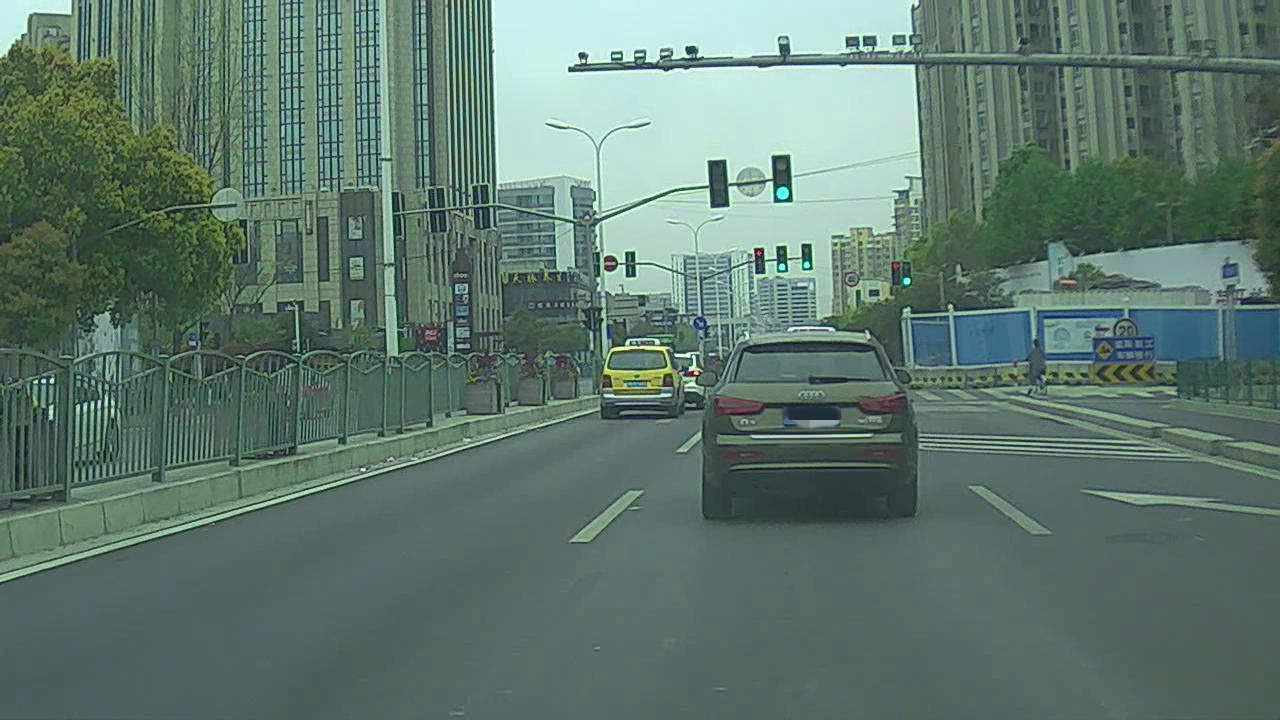traffic_light: (702, 157, 731, 210), (772, 154, 796, 202), (753, 245, 767, 276), (800, 241, 814, 270), (774, 246, 787, 272), (888, 258, 901, 284), (902, 262, 913, 285)
